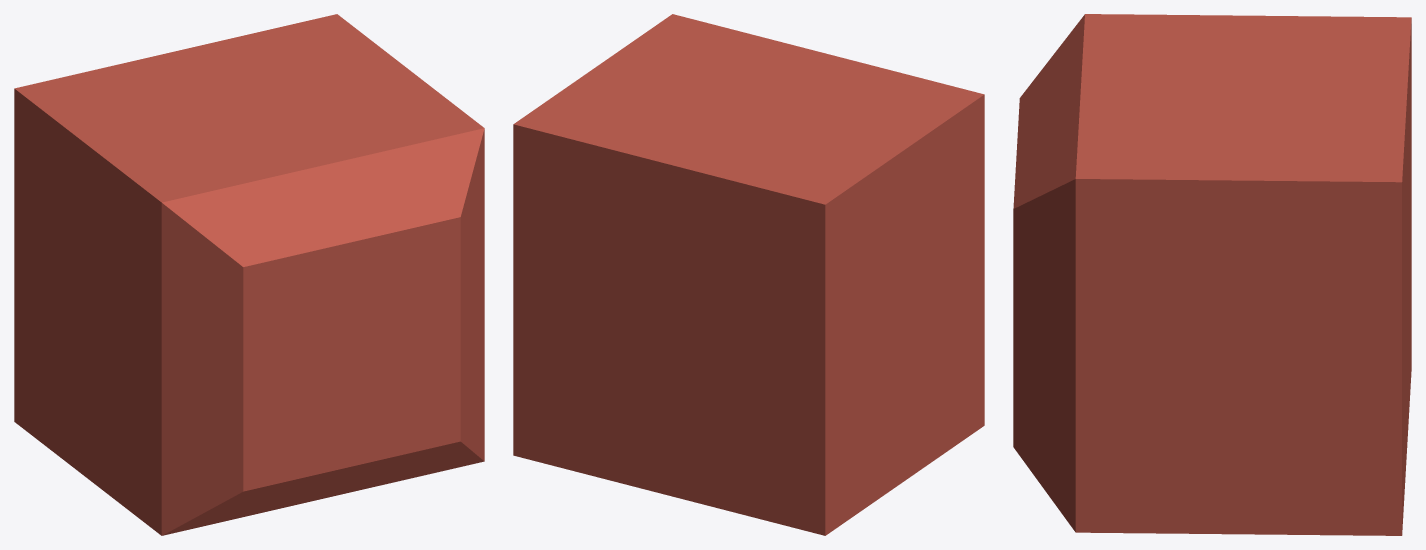
The model's file is Connector.fbx.
The picture shows the model from 3 angles, left to right: view 1: azimuth 30°, elevation 25°; view 2: azimuth 150°, elevation 25°; view 3: azimuth 270°, elevation 25°; orthographic projection. The views are drawn at different scales.
Parts seen in each view (by area): view 1: Wire Connection Cube; view 2: Wire Connection Cube; view 3: Wire Connection Cube.
Boxes of the visible parts, box(x1,y1,x2,y2) form: Wire Connection Cube: box(14, 14, 484, 535); Wire Connection Cube: box(513, 14, 984, 535); Wire Connection Cube: box(1013, 14, 1411, 535).
Size of the model in its own units: 24.13 by 23.66 by 24.13.
